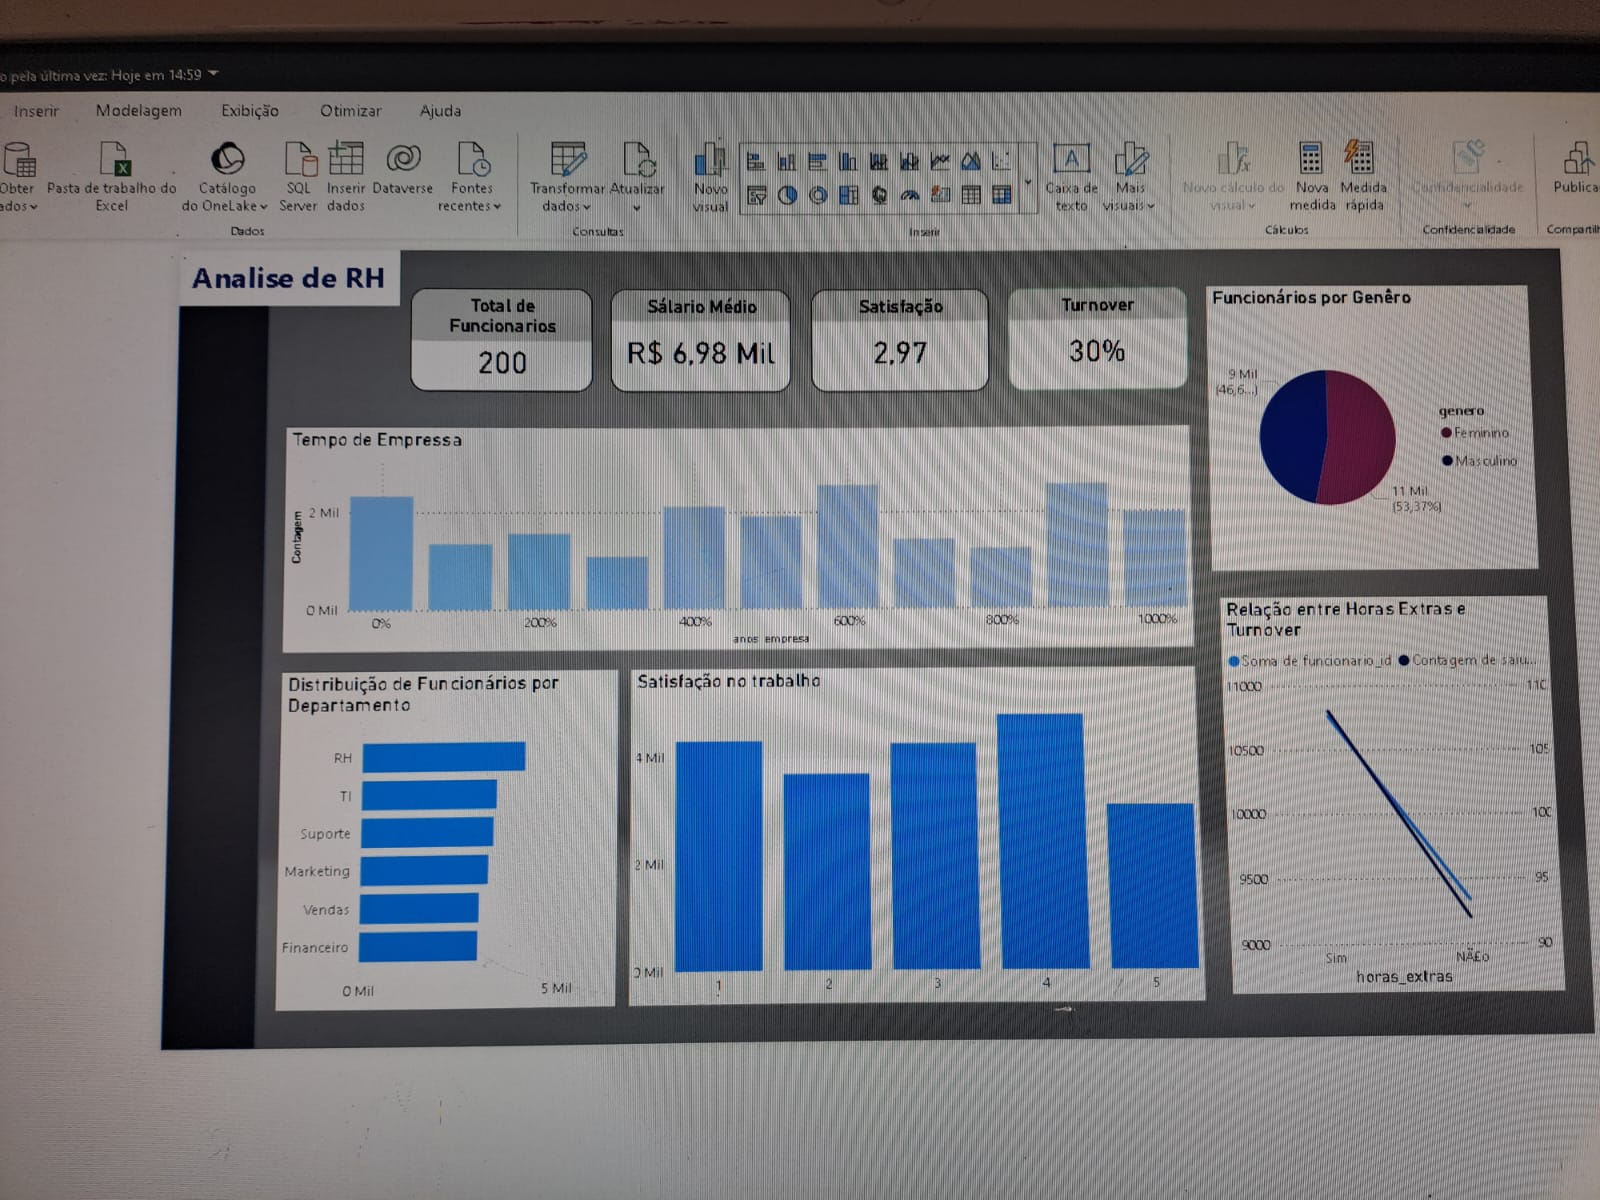

The page's visual inventory and layout, read from the dashboard file:
{"tool":"powerbi","page":{"name":"Página 1","canvas":[1280,720],"ordinal":0},"visuals":[{"type":"shape","title":"An","box":[0,0,82.5,720],"z":0},{"type":"card","title":"Total de Funcionarios","fields":{"Values":["funcionarios.Total Funcionarios"]},"box":[210.7,35.1,166,95.7],"z":1000},{"type":"barChart","title":"Distribuição de Funcionários por Departamento","fields":{"Category":["funcionarios.departamento"],"Y":["Sum(funcionarios.funcionario_id)"]},"box":[100.1,388.1,300.3,299.4],"z":2000},{"type":"pieChart","title":"Funcionários por Genêro","fields":{"Category":["funcionarios.genero"],"Y":["Sum(funcionarios.funcionario_id)"]},"box":[947.4,35.1,301.2,265.2],"z":3000},{"type":"columnChart","title":"Tempo de Empressa","fields":{"Category":["funcionarios.anos_empresa"],"Y":["Sum(funcionarios.funcionario_id)"]},"box":[100.1,165.1,828.9,205.5],"z":4000},{"type":"columnChart","title":"Satisfação no trabalho","fields":{"Category":["funcionarios.satisfacao_trabalho"],"Y":["Sum(funcionarios.funcionario_id)"]},"box":[411.8,388.1,517.2,299.4],"z":5000},{"type":"lineChart","title":"Relação entre Horas Extras e Turnover","fields":{"Category":["funcionarios.horas_extras"],"Y":["Sum(funcionarios.funcionario_id)"],"Y2":["CountNonNull(funcionarios.saiu_empresa)"]},"box":[953.6,324.9,301.2,355.6],"z":6000},{"type":"card","title":"Satisfação","fields":{"Values":["funcionarios.Satisfacao Media"]},"box":[578.6,35.1,166,95.7],"z":7000},{"type":"card","title":"Sálario Médio","fields":{"Values":["funcionarios.Salario Medio"]},"box":[393.4,35.1,166.8,95.7],"z":8000},{"type":"card","title":"Turnover","fields":{"Values":["funcionarios.taxa de saida %"]},"box":[762.1,35.1,166.8,95.7],"z":9000},{"type":"textbox","box":[0,0,201.1,51.8],"z":9001}]}

Visuals, with their boxes on the page's 1280x720 design canvas (x1, y1, x2, y2). These are canvas units, not pixel positions in the 1600x1200 screenshot, which may show the page scaled, cropped or inside an application window:
"An" shape: [left=0, top=0, right=82, bottom=720]
"Total de Funcionarios" card: [left=211, top=35, right=377, bottom=131]
"Distribuição de Funcionários por Departamento" barChart: [left=100, top=388, right=400, bottom=688]
"Funcionários por Genêro" pieChart: [left=947, top=35, right=1249, bottom=300]
"Tempo de Empressa" columnChart: [left=100, top=165, right=929, bottom=371]
"Satisfação no trabalho" columnChart: [left=412, top=388, right=929, bottom=688]
"Relação entre Horas Extras e Turnover" lineChart: [left=954, top=325, right=1255, bottom=680]
"Satisfação" card: [left=579, top=35, right=745, bottom=131]
"Sálario Médio" card: [left=393, top=35, right=560, bottom=131]
"Turnover" card: [left=762, top=35, right=929, bottom=131]
textbox: [left=0, top=0, right=201, bottom=52]
